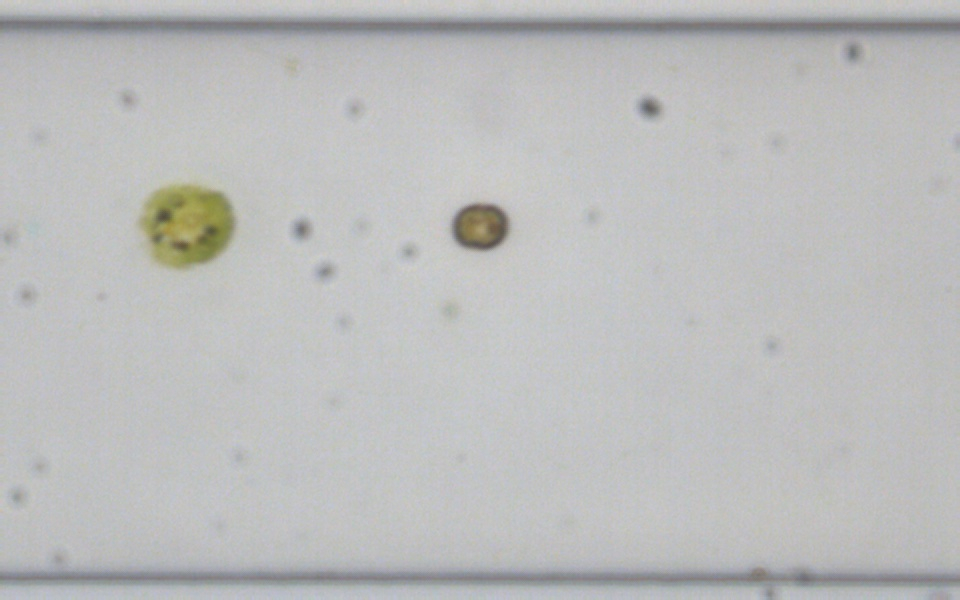Effrenium: (447, 199, 511, 254)
Haematococcus: (137, 180, 234, 270)
